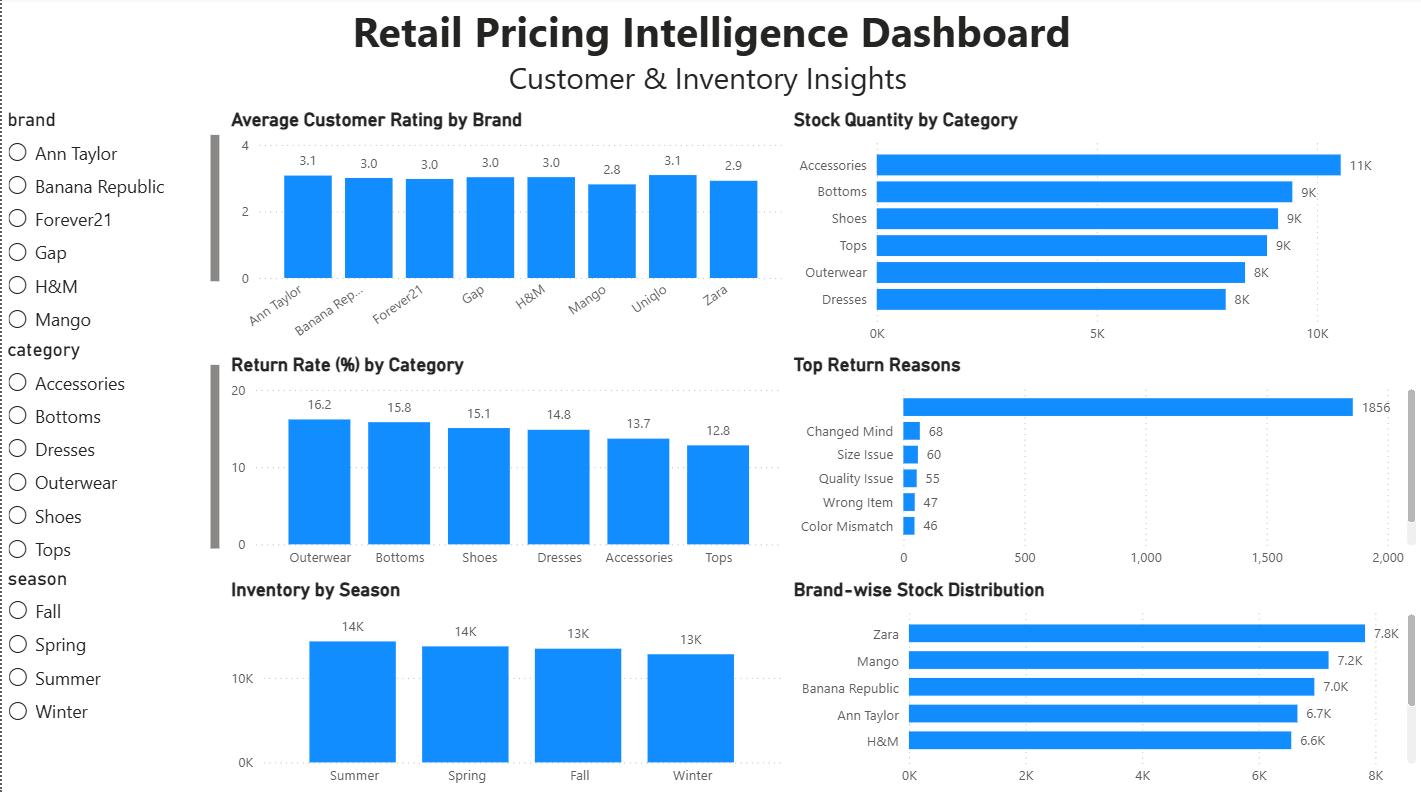

The page's visual inventory and layout, read from the dashboard file:
{"tool":"powerbi","page":{"name":"Page 2","canvas":[1280,720],"ordinal":1},"visuals":[{"type":"textbox","box":[0,0,1280,100],"z":0},{"type":"clusteredColumnChart","title":"Average Customer Rating by Brand","fields":{"Category":["retail_pricing_cleaned.brand"],"Y":["Avg(retail_pricing_cleaned.customer_rating)"]},"box":[201.2,100,507.5,221.2],"z":1000},{"type":"clusteredBarChart","title":"Stock Quantity by Category","fields":{"Category":["retail_pricing_cleaned.category"],"Y":["Sum(retail_pricing_cleaned.stock_quantity)"]},"box":[708.8,100,571.2,221.2],"z":2000},{"type":"clusteredColumnChart","title":"Return Rate (%) by Category","fields":{"Category":["retail_pricing_cleaned.category"],"Y":["retail_pricing_cleaned.Return Rate (%)"]},"box":[201.2,321.2,507.5,202.5],"z":3000},{"type":"clusteredBarChart","title":"Top Return Reasons","fields":{"Category":["retail_pricing_cleaned.return_reason"],"Y":["CountNonNull(retail_pricing_cleaned.product_id)"]},"box":[708.8,321.2,571.2,202.5],"z":4000},{"type":"clusteredColumnChart","title":"Inventory by Season","fields":{"Category":["retail_pricing_cleaned.season"],"Y":["Sum(retail_pricing_cleaned.stock_quantity)"]},"box":[201.2,523.8,507.5,196.2],"z":5000},{"type":"clusteredBarChart","title":"Brand-wise Stock Distribution","fields":{"Category":["retail_pricing_cleaned.brand"],"Y":["Sum(retail_pricing_cleaned.stock_quantity)"]},"box":[708.8,523.8,571.2,196.2],"z":6000},{"type":"listSlicer","fields":{"Values":["retail_pricing_cleaned.brand"]},"box":[0,100,201.2,207.5],"z":7000},{"type":"listSlicer","fields":{"Values":["retail_pricing_cleaned.category"]},"box":[0,307.5,201.2,206.2],"z":8000},{"type":"listSlicer","fields":{"Values":["retail_pricing_cleaned.season"]},"box":[0,513.8,201.2,206.2],"z":9000}]}

Visuals, with their boxes in screenshot pixels (x1, y1, x2, y2), scaled from the page's 1280x720 canvas onto the 1421x792 screenshot:
textbox: <bbox>0, 0, 1420, 110</bbox>
"Average Customer Rating by Brand" clusteredColumnChart: <bbox>223, 110, 787, 353</bbox>
"Stock Quantity by Category" clusteredBarChart: <bbox>787, 110, 1420, 353</bbox>
"Return Rate (%) by Category" clusteredColumnChart: <bbox>223, 353, 787, 576</bbox>
"Top Return Reasons" clusteredBarChart: <bbox>787, 353, 1420, 576</bbox>
"Inventory by Season" clusteredColumnChart: <bbox>223, 576, 787, 791</bbox>
"Brand-wise Stock Distribution" clusteredBarChart: <bbox>787, 576, 1420, 791</bbox>
listSlicer - retail_pricing_cleaned.brand: <bbox>0, 110, 223, 338</bbox>
listSlicer - retail_pricing_cleaned.category: <bbox>0, 338, 223, 565</bbox>
listSlicer - retail_pricing_cleaned.season: <bbox>0, 565, 223, 791</bbox>
